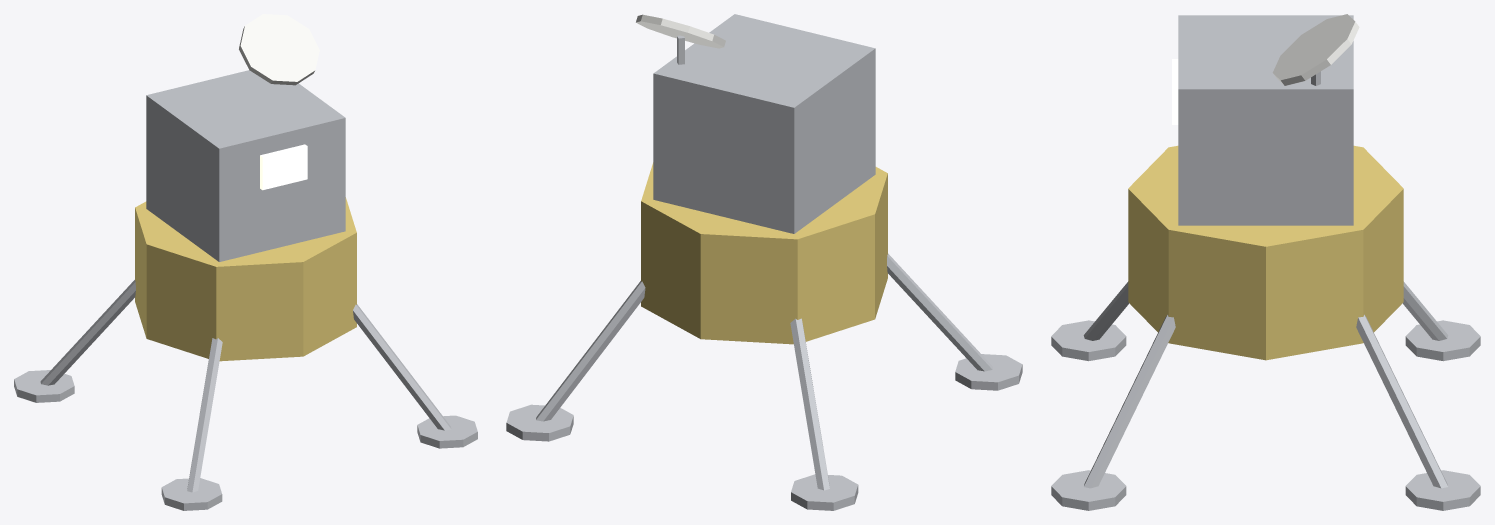
Rendered from arena_lander.glb.
3 views of the same model, side by side, from view 1: azimuth 30°, elevation 25°; view 2: azimuth 150°, elevation 25°; view 3: azimuth 270°, elevation 25° (orthographic). The views are drawn at different scales.
Visible parts, largest first — view 1: arena_lander; view 2: arena_lander; view 3: arena_lander.
Part boxes in pixels (box(x1,y1,x2,y2)): arena_lander: box(14, 14, 477, 510); arena_lander: box(506, 14, 1022, 510); arena_lander: box(1051, 14, 1480, 510).
Size of the model in its own units: 3.43 by 3.79 by 3.43.
